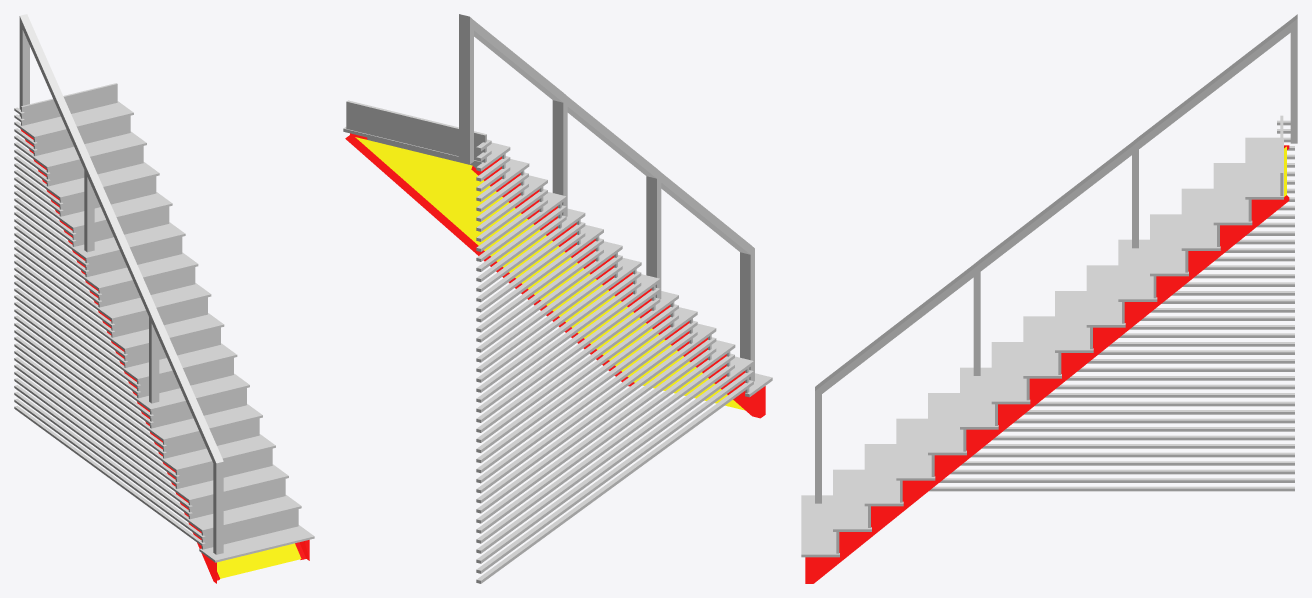
File: Stairs.fbx
3 renders of one model, left to right at view 1: azimuth 30°, elevation 25°; view 2: azimuth 150°, elevation 25°; view 3: azimuth 270°, elevation 25°, orthographic. The views are drawn at different scales.
Parts seen in each view (by area): view 1: StairMainFrame, StairStripes, StairBottom; view 2: StairStripes, StairMainFrame, StairBottom; view 3: StairMainFrame, StairStripes, StairBottom.
Part boxes in pixels (left/top/right/bottom): StairMainFrame: left=18, top=14, right=314, bottom=562; StairStripes: left=14, top=107, right=205, bottom=546; StairBottom: left=20, top=129, right=309, bottom=583; StairStripes: left=476, top=139, right=753, bottom=583; StairMainFrame: left=343, top=14, right=772, bottom=397; StairBottom: left=345, top=133, right=765, bottom=418; StairMainFrame: left=801, top=14, right=1297, bottom=557; StairStripes: left=929, top=120, right=1294, bottom=491; StairBottom: left=805, top=145, right=1289, bottom=583.
Bounding box in the file's own units: 120 × 485 × 423.
